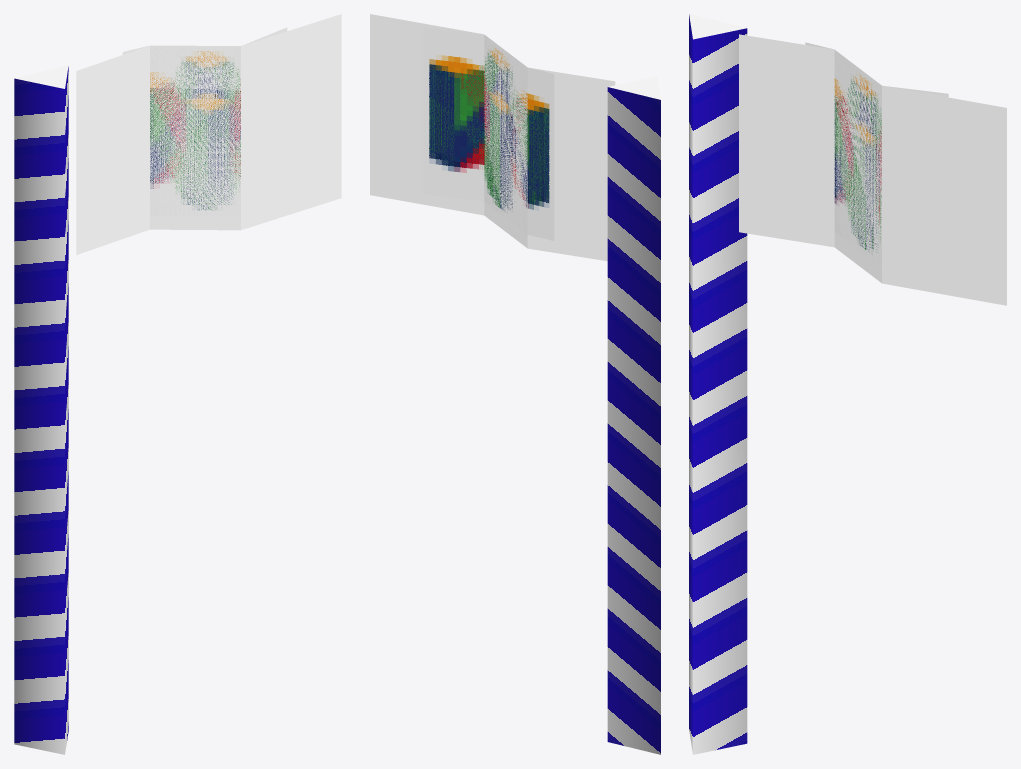
Rendered from uvmd-0205.glb.
3 renders of one model, left to right at view 1: azimuth 30°, elevation 25°; view 2: azimuth 150°, elevation 25°; view 3: azimuth 330°, elevation 25°, orthographic. The views are drawn at different scales.
Parts seen in each view (by area): view 1: uvmd-0205; view 2: uvmd-0205; view 3: uvmd-0205.
Boxes of the visible parts, x1,y1,x2,y2 form: uvmd-0205: (14, 14, 341, 754); uvmd-0205: (370, 14, 660, 754); uvmd-0205: (689, 14, 1006, 754).
Size of the model in its own units: 23 by 47 by 3.
Materials: 3 (3 with a texture image).
